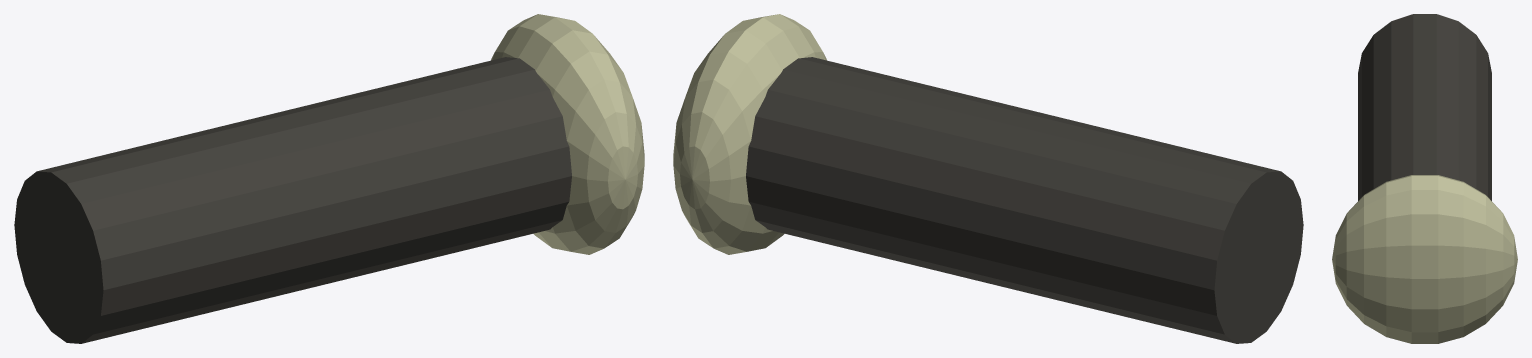
The model's file is flashlight_worn.obj.
3 views of the same model, side by side, from view 1: azimuth 30°, elevation 25°; view 2: azimuth 150°, elevation 25°; view 3: azimuth 270°, elevation 25° (orthographic). The views are drawn at different scales.
Size of the model in its own units: 0.9391 by 0.3563 by 0.36.
